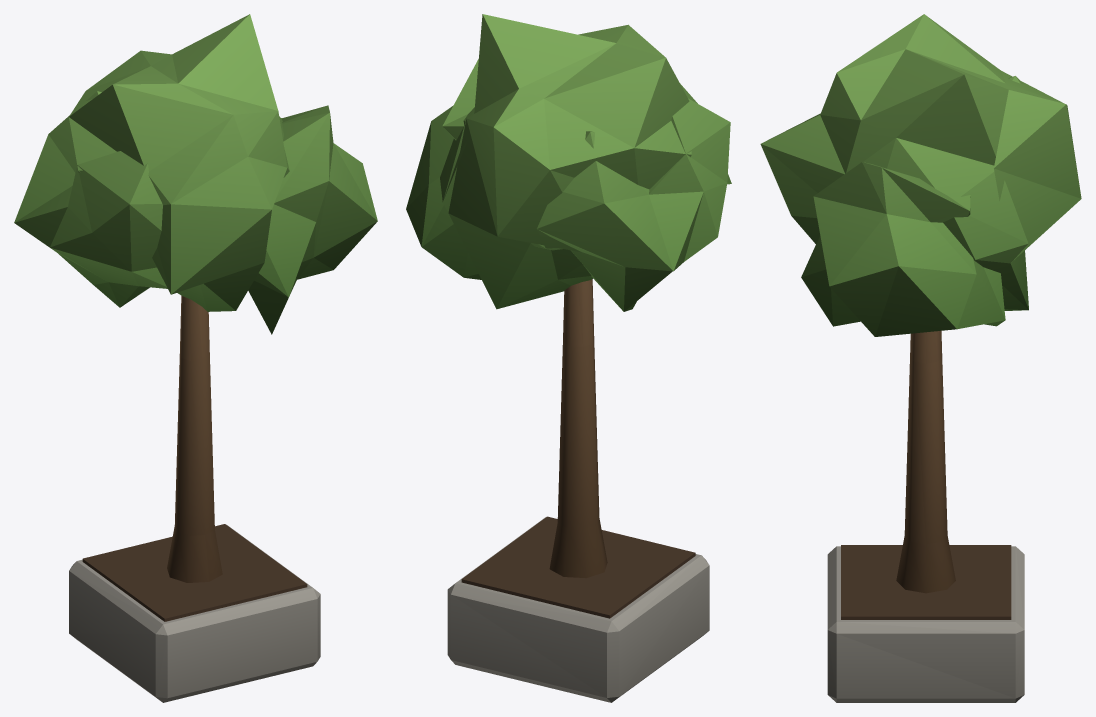
The model's file is street-tree-01.glb.
The picture shows the model from 3 angles, left to right: view 1: azimuth 30°, elevation 25°; view 2: azimuth 150°, elevation 25°; view 3: azimuth 270°, elevation 25°; orthographic projection. The views are drawn at different scales.
Parts seen in each view (by area): view 1: street_tree_01; view 2: street_tree_01; view 3: street_tree_01.
Boxes of the visible parts, box(x1,y1,x2,y2) form: street_tree_01: box(14, 14, 377, 702); street_tree_01: box(406, 14, 731, 702); street_tree_01: box(760, 14, 1081, 702).
Bounding box in the file's own units: 1.96 × 3.87 × 1.79.
